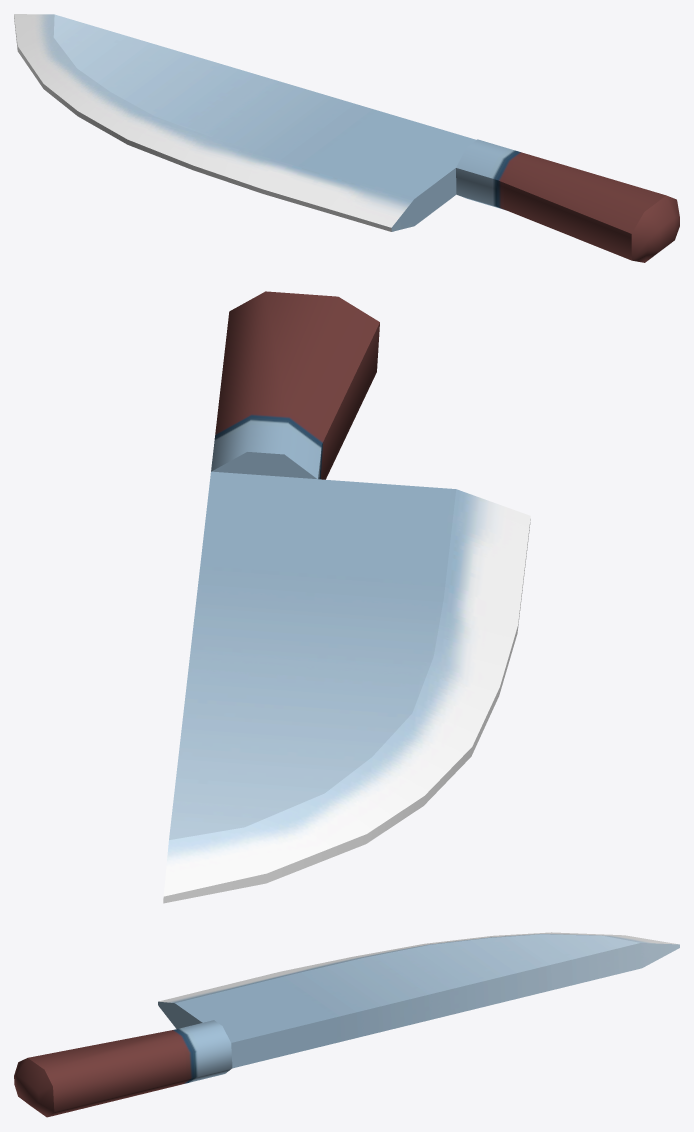
Rendered from Knife.glb.
3 renders of one model, top to bottom at view 1: azimuth 30°, elevation 25°; view 2: azimuth 150°, elevation 25°; view 3: azimuth 270°, elevation 25°, orthographic. The views are drawn at different scales.
Parts seen in each view (by area): view 1: Knife; view 2: Knife; view 3: Knife.
Boxes of the visible parts, <box> form: Knife: <box>14,14,679,262</box>; Knife: <box>163,291,530,903</box>; Knife: <box>14,932,679,1117</box>.
Bounding box in the file's own units: 0.557 × 0.0896 × 1.01.
1 material, 1 textured.
